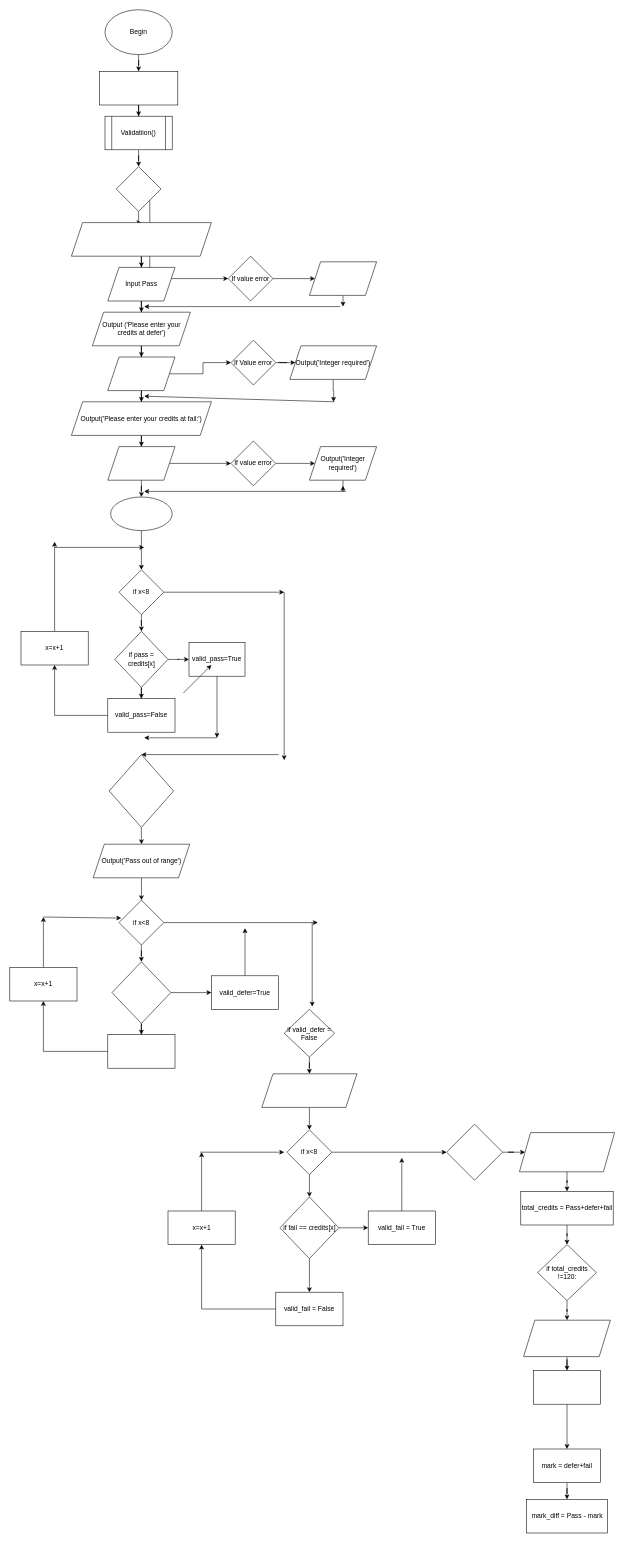
This 624x1543 diagram has some shape labels left out. Here are the shapes that lost their labels. From the top down, the centre of each, then its label:
point (138, 88): credits=[0,20,40,60,80,100,120] Total_incorrect=False
point (138, 188): if true
point (141, 239): Output ('Please enter your credits at pass')
point (343, 278): Print "(Integer required')
point (141, 373): Input defer
point (141, 463): Input fail
point (141, 513): End procedure
point (141, 790): if valid_pass=False
point (141, 992): if defer==credits[x]
point (141, 1051): valid_defer=False
point (309, 1090): Output('Defer out of range')
point (474, 1152): if valid_fail = False
point (567, 1152): Output('Fail out of range')
point (566, 1338): print('Total incorrect')
point (567, 1387): Total_incorrect = True
